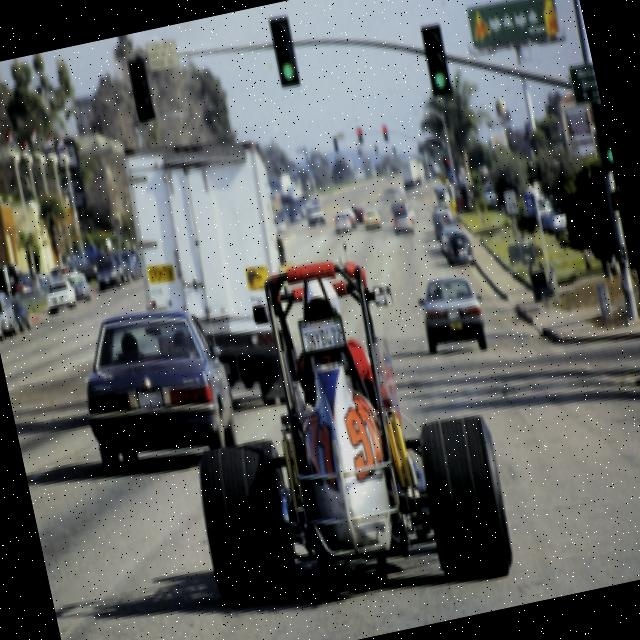Autre: (298, 310, 348, 352), (129, 375, 171, 413), (443, 300, 468, 332)
